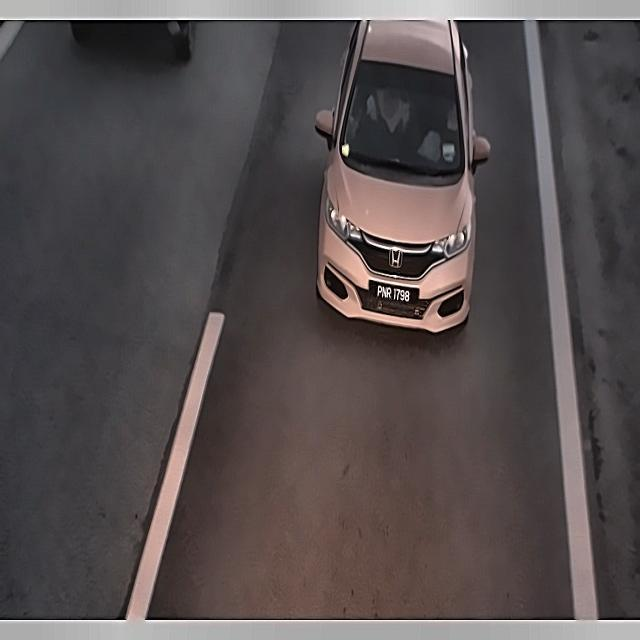car: (369, 277, 422, 307)
